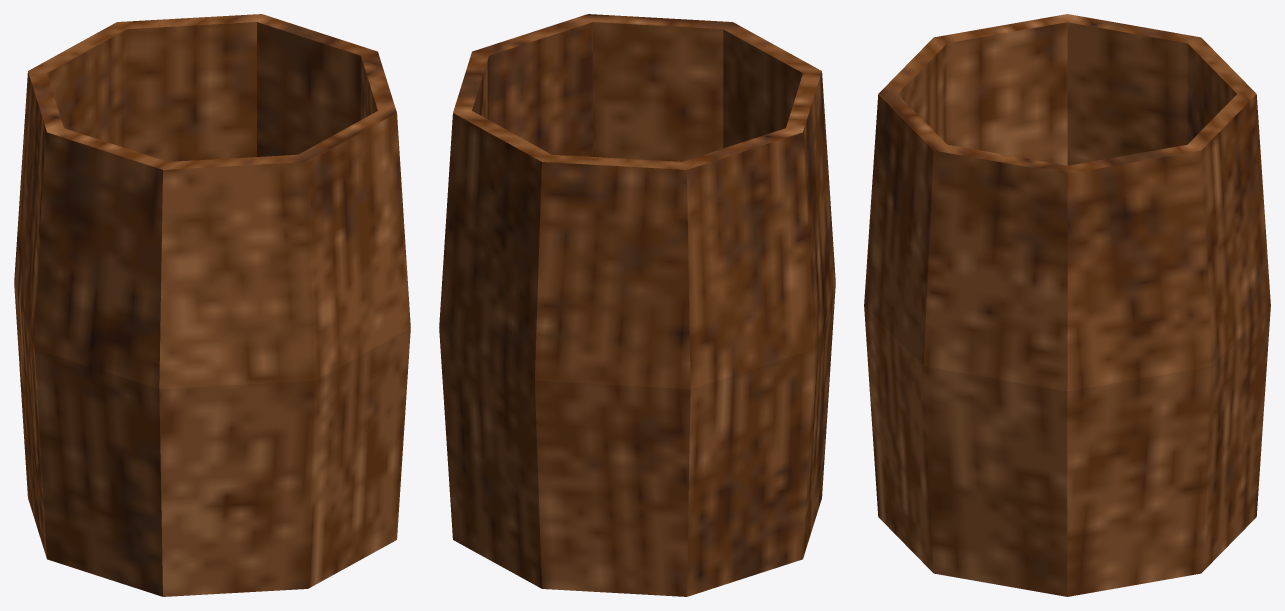
File: SM_Dungeon_Cup_Wooden.fbx
3 views of the same model, side by side, from view 1: azimuth 30°, elevation 25°; view 2: azimuth 150°, elevation 25°; view 3: azimuth 270°, elevation 25° (orthographic).
Visible parts, largest first — view 1: SM_Dungeon_Cup_Wooden; view 2: SM_Dungeon_Cup_Wooden; view 3: SM_Dungeon_Cup_Wooden.
Boxes of the visible parts, x1=… form: SM_Dungeon_Cup_Wooden: x1=14, y1=14, x2=410, y2=596; SM_Dungeon_Cup_Wooden: x1=439, y1=14, x2=835, y2=596; SM_Dungeon_Cup_Wooden: x1=864, y1=14, x2=1270, y2=596.
Bounding box in the file's own units: 13.93 × 15.98 × 13.93.
